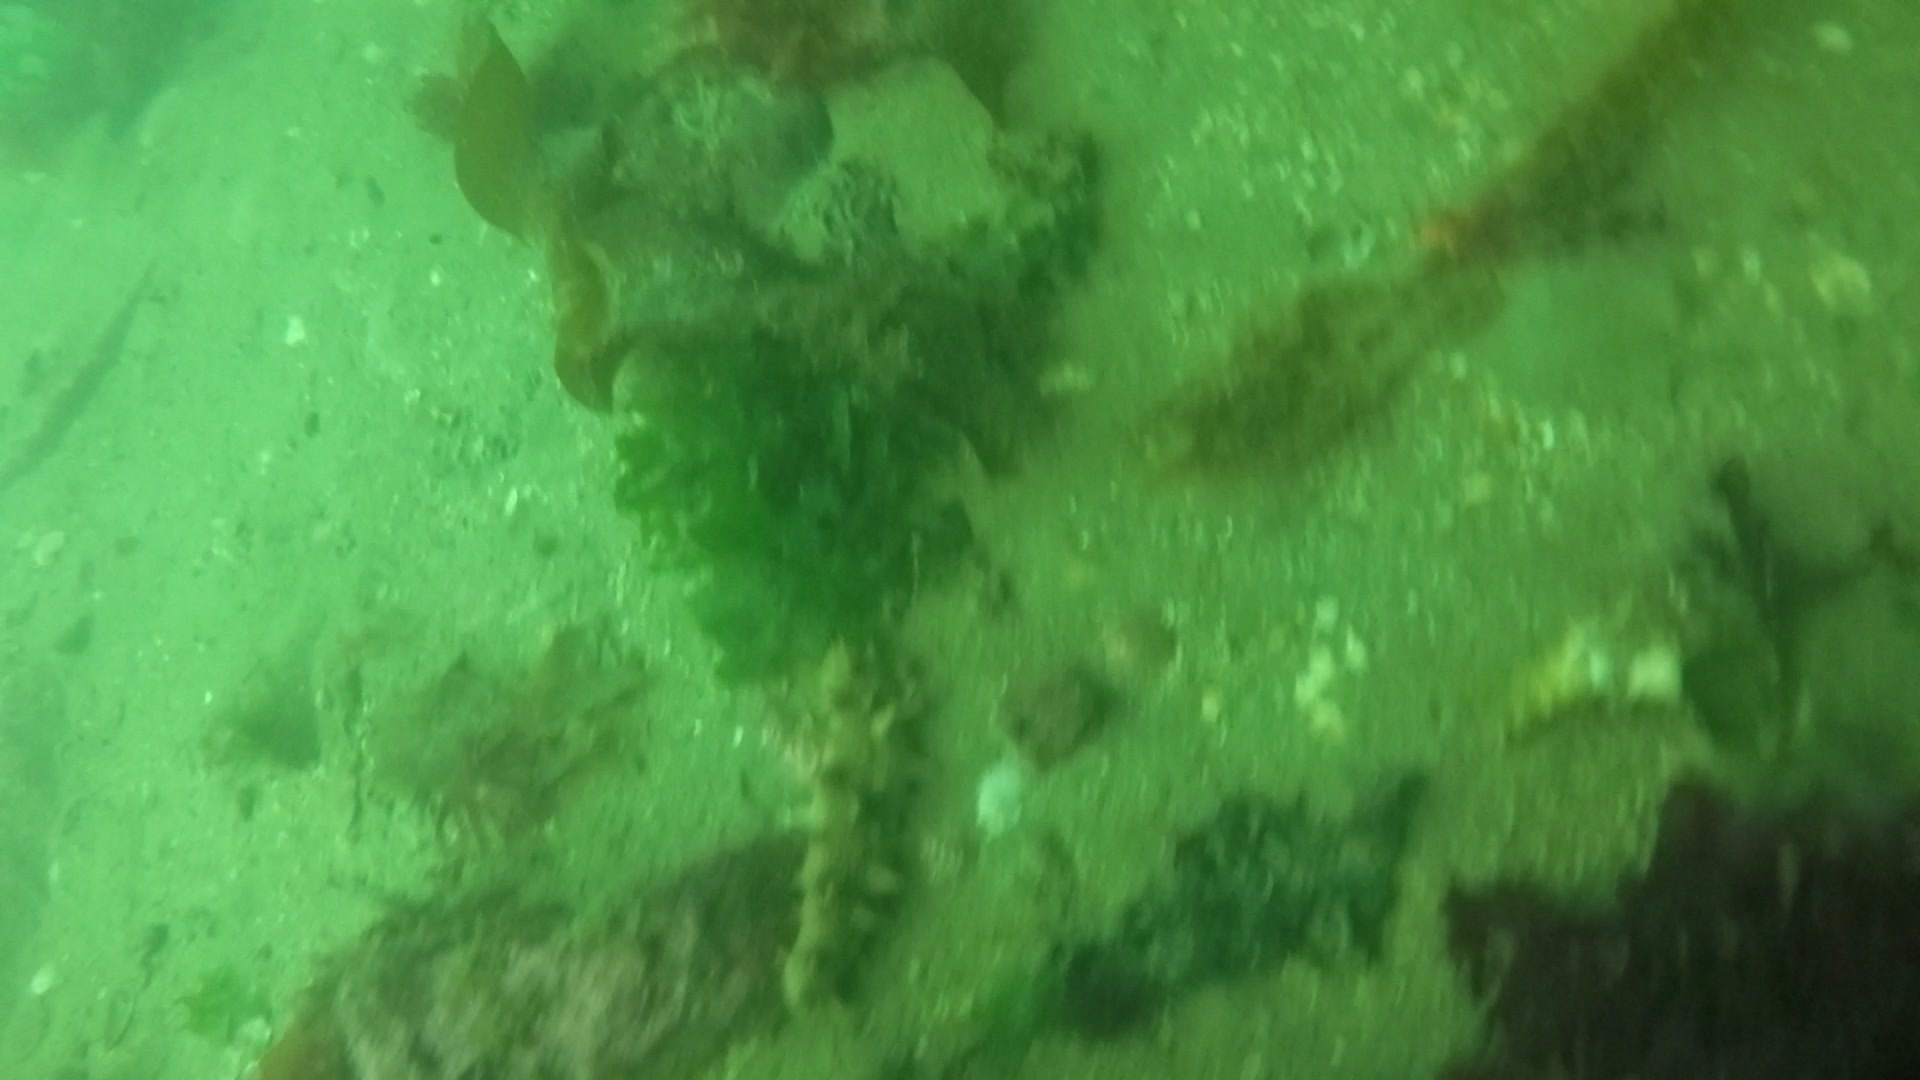holothurian: (767, 636, 926, 1011)
